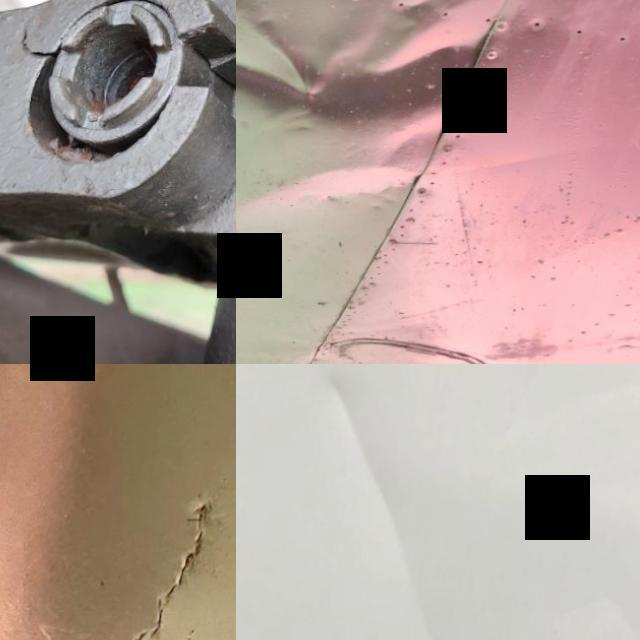Crack: (71, 477, 231, 640), (13, 21, 62, 68)
Dent: (236, 0, 533, 245), (327, 372, 448, 640), (547, 582, 640, 640)
